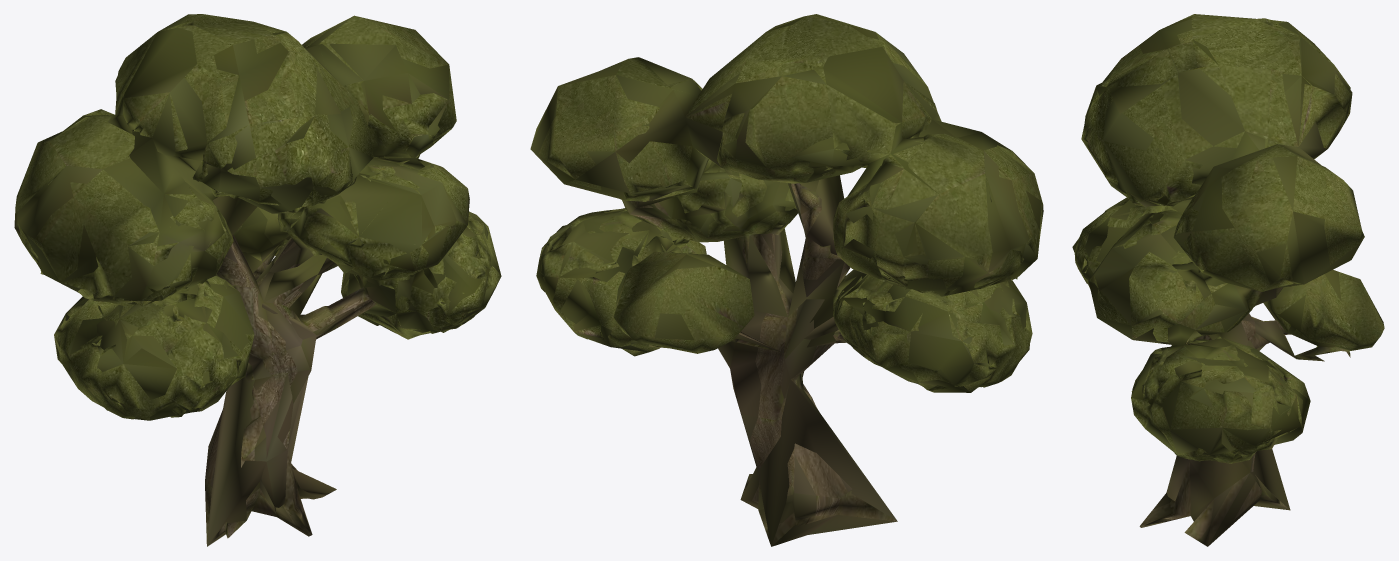
File: roble.glb
The picture shows the model from 3 angles, left to right: view 1: azimuth 30°, elevation 25°; view 2: azimuth 150°, elevation 25°; view 3: azimuth 270°, elevation 25°; orthographic projection. The views are drawn at different scales.
Visible parts, largest first — view 1: cerca, medio, lejos; view 2: cerca, medio, lejos; view 3: cerca, medio, lejos.
Part boxes in pixels (x1,y1,x2,y2): cerca: [14, 14, 501, 543]; medio: [14, 15, 500, 546]; lejos: [15, 45, 494, 546]; cerca: [533, 15, 1043, 546]; medio: [530, 14, 1041, 527]; lejos: [561, 89, 1037, 546]; cerca: [1073, 14, 1384, 545]; medio: [1072, 14, 1362, 546]; lejos: [1083, 142, 1336, 521].
Size of the model in its own units: 7.45 by 7.43 by 4.35.
Materials: 2 (1 with a texture image).
